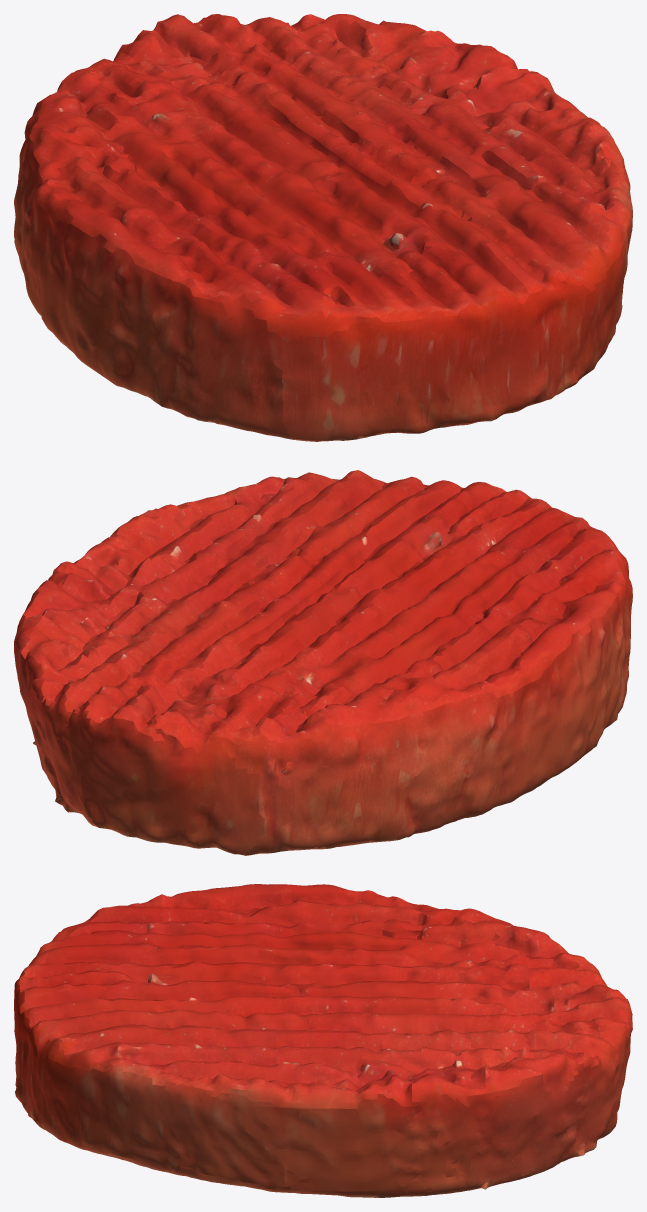
File: steack.fbx
The picture shows the model from 3 angles, top to bottom: view 1: azimuth 30°, elevation 25°; view 2: azimuth 150°, elevation 25°; view 3: azimuth 270°, elevation 25°; orthographic projection. The views are drawn at different scales.
Parts seen in each view (by area): view 1: textured_mesh.obj; view 2: textured_mesh.obj; view 3: textured_mesh.obj.
Part boxes in pixels (x1,y1,x2,y2): textured_mesh.obj: (14,14,632,441); textured_mesh.obj: (14,470,632,855); textured_mesh.obj: (14,884,632,1197).
Bounding box in the file's own units: 1.6 × 0.452 × 1.98.
1 material, 1 textured.
